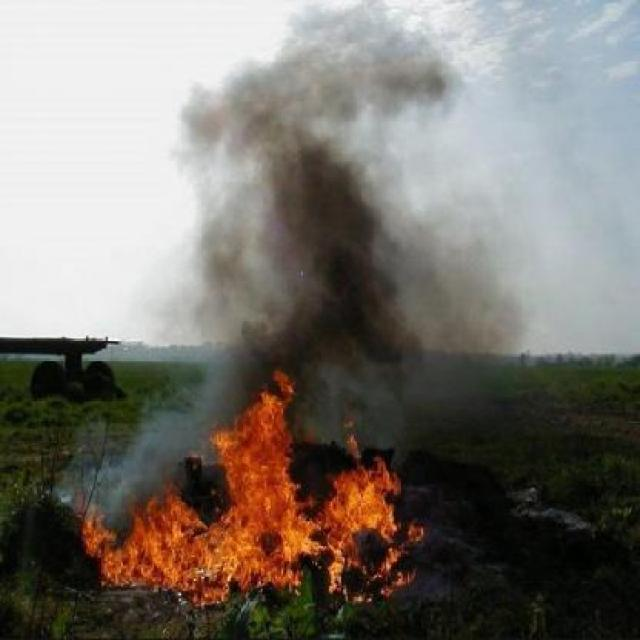Fire: (86, 408, 406, 616)
Smoke: (205, 161, 503, 381)
